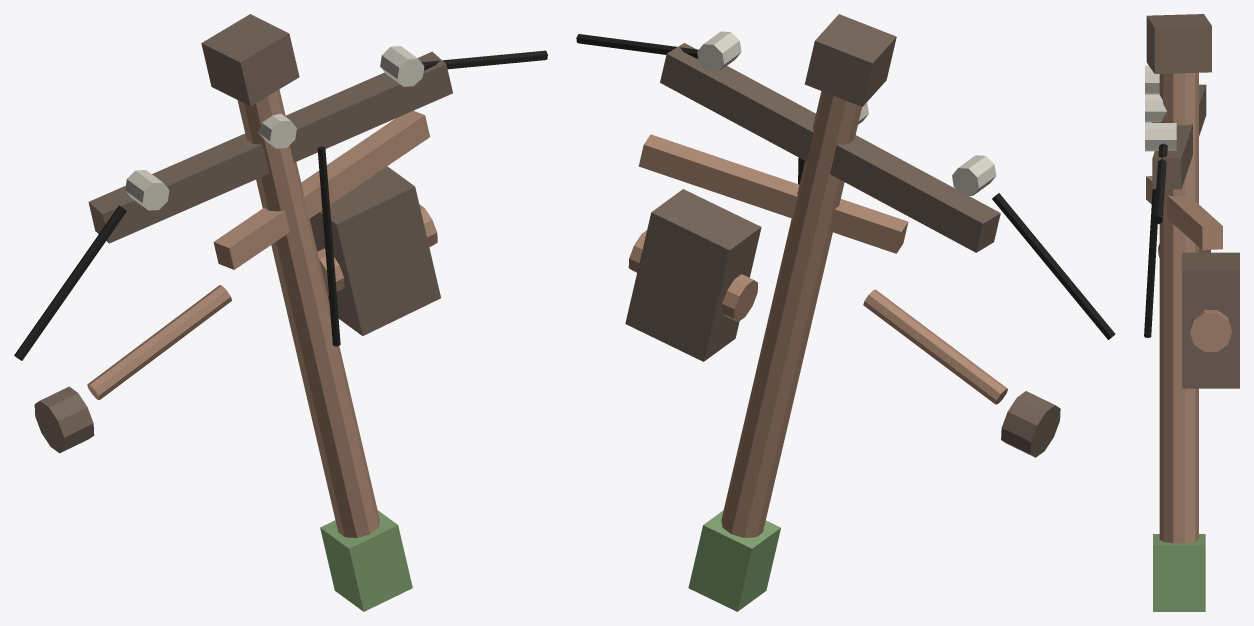
Rendered from rusted_utility_pole_v01.fbx.
The picture shows the model from 3 angles, left to right: view 1: azimuth 30°, elevation 25°; view 2: azimuth 150°, elevation 25°; view 3: azimuth 270°, elevation 25°; orthographic projection. The views are drawn at different scales.
Parts seen in each view (by area): view 1: leaning rusted pole shaft, main cross arm, hanging transformer box, splintered secondary arm, top broken cap, green algae wet base, lamp bent arm, broken lamp head, cut cable left, dangling cable, ceramic insulator 0.52, ceramic insulator -0.52 (+2 smaller); view 2: leaning rusted pole shaft, main cross arm, hanging transformer box, splintered secondary arm, green algae wet base, top broken cap, lamp bent arm, broken lamp head, cut cable left, ceramic insulator 0.52, ceramic insulator -0.52, transformer side cap b (+1 smaller); view 3: leaning rusted pole shaft, hanging transformer box, green algae wet base, top broken cap, splintered secondary arm, main cross arm, transformer side cap a, dangling cable, ceramic insulator 0.52, cut cable right, ceramic insulator 0.0, ceramic insulator -0.52.
Part boxes in pixels (x1,y1,x2,y2): leaning rusted pole shaft: (237,89,379,537); main cross arm: (88,51,452,243); hanging transformer box: (310,166,440,335); splintered secondary arm: (213,110,429,269); top broken cap: (201,14,299,106); green algae wet base: (320,510,412,611); lamp bent arm: (87,285,231,399); broken lamp head: (34,386,94,453); cut cable left: (14,205,126,360); dangling cable: (317,146,340,346); ceramic insulator 0.52: (380,46,424,86); ceramic insulator -0.52: (125,170,169,210); leaning rusted pole shaft: (721,91,861,537); main cross arm: (660,43,1000,252); hanging transformer box: (625,189,761,361); splintered secondary arm: (638,134,908,253); green algae wet base: (688,510,780,611); top broken cap: (804,14,896,106); lamp bent arm: (863,289,1007,404); broken lamp head: (1001,391,1060,457); cut cable left: (992,193,1115,339); ceramic insulator 0.52: (697,31,741,72); ceramic insulator -0.52: (952,155,996,195); transformer side cap b: (722,274,757,321); leaning rusted pole shaft: (1159,72,1198,543); hanging transformer box: (1182,252,1239,388); green algae wet base: (1153,534,1205,611); top broken cap: (1146,14,1211,73); splintered secondary arm: (1146,176,1222,250); main cross arm: (1152,84,1206,189); transformer side cap a: (1190,310,1231,351); dangling cable: (1144,189,1157,337); ceramic insulator 0.52: (1145,123,1176,151); cut cable right: (1154,143,1167,224); ceramic insulator 0.0: (1145,94,1166,122); ceramic insulator -0.52: (1145,65,1159,94).
Size of the model in its own units: 212 by 226 by 36.36.
